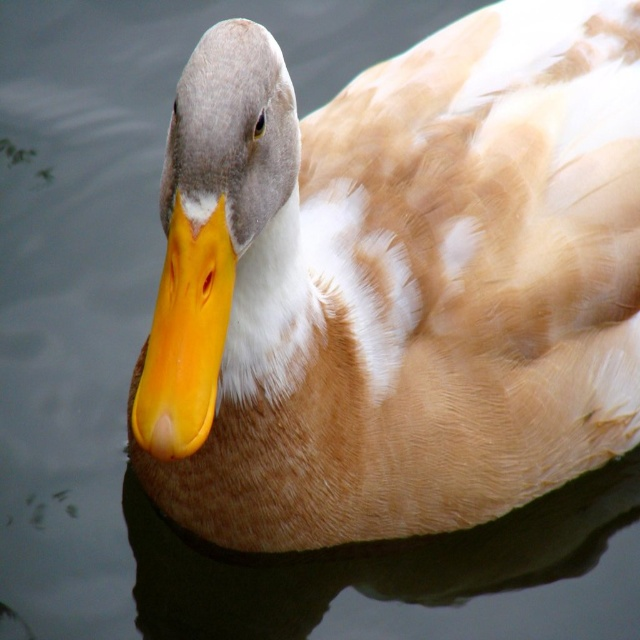Duck: (140, 0, 640, 599)
